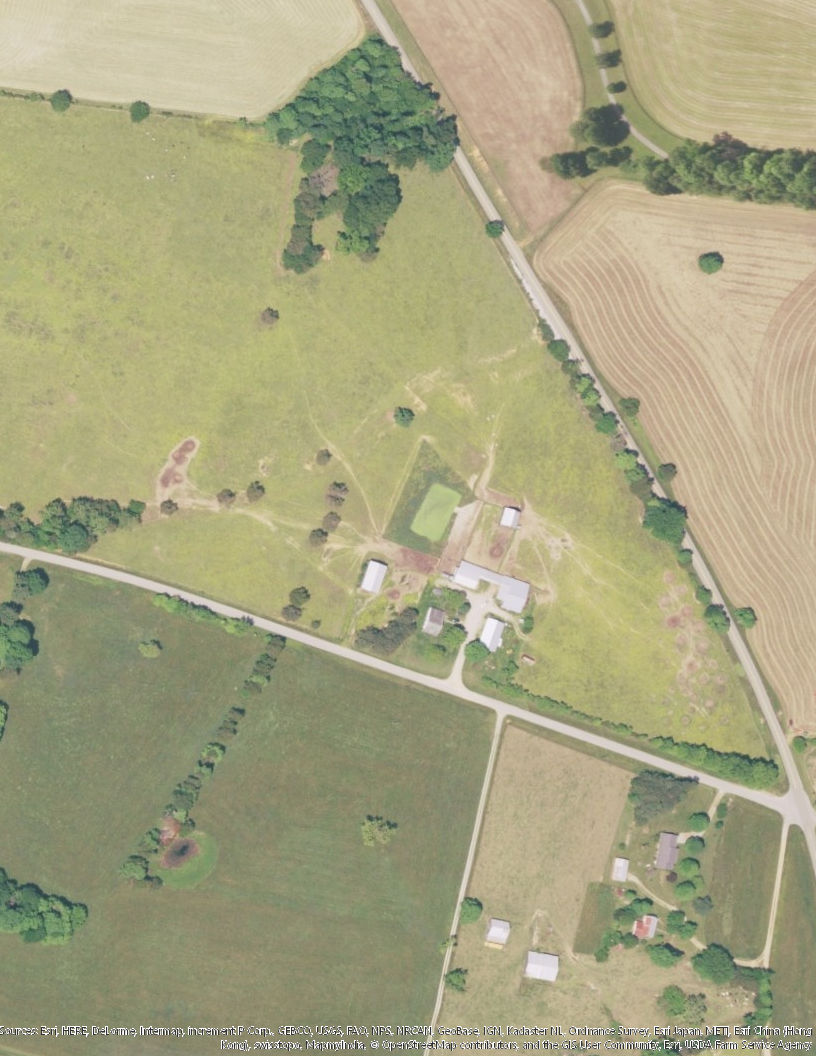cafo: (451, 559, 534, 618), (477, 616, 507, 657)
